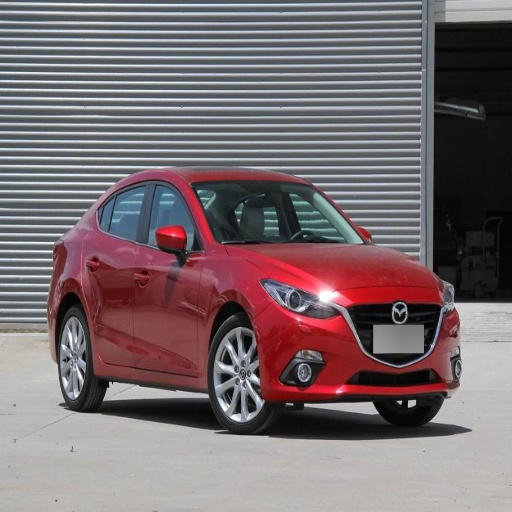back_left_light: (84, 178, 150, 366)
back_right_light: (256, 289, 456, 402)
front_bumper: (192, 179, 364, 243)
front_left_light: (134, 178, 198, 376)
front_right_door: (261, 278, 339, 319)
front_right_light: (225, 243, 438, 289)
trunk: (210, 316, 273, 432), (57, 305, 102, 410), (377, 397, 439, 425)
